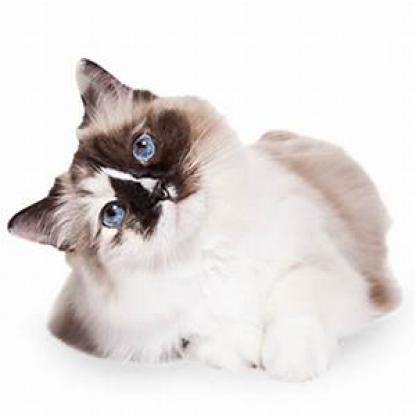cat: (7, 54, 394, 384)
